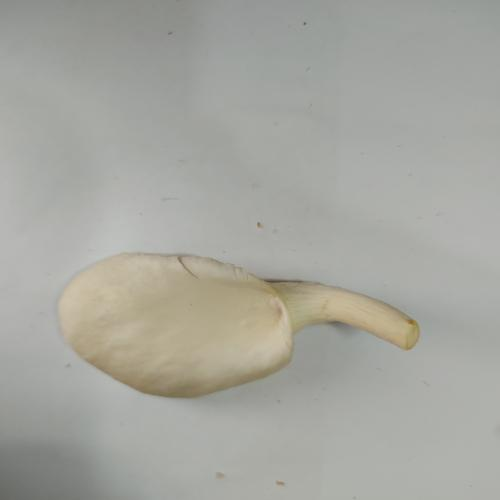Oyster Mushroom: (57, 250, 420, 399)
